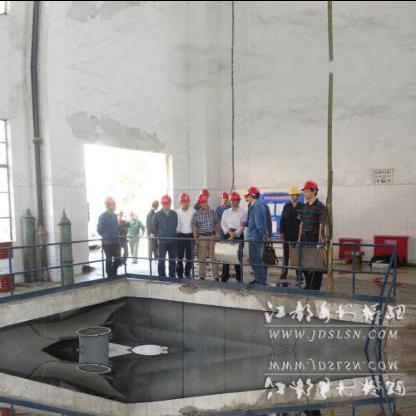Helmet: (300, 176, 318, 202), (243, 182, 259, 204), (101, 192, 116, 212), (285, 183, 299, 202), (158, 192, 172, 210), (194, 192, 208, 210), (228, 186, 240, 206), (176, 190, 188, 208), (219, 189, 229, 203), (150, 197, 158, 209)
